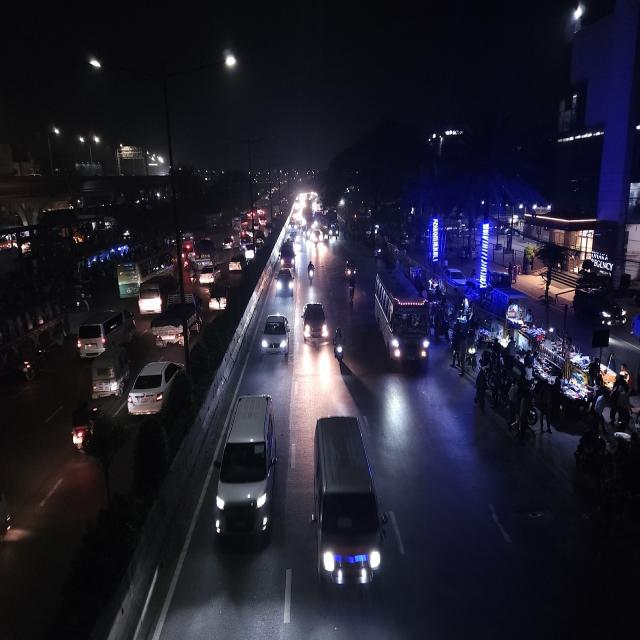bus: (370, 267, 432, 374), (111, 250, 161, 294)
car: (309, 410, 386, 607), (214, 388, 280, 557), (126, 355, 187, 424), (74, 306, 137, 355), (152, 301, 204, 348), (90, 343, 132, 400), (136, 273, 180, 314), (260, 311, 290, 362), (301, 298, 329, 349), (207, 280, 233, 314), (274, 265, 296, 298), (442, 264, 467, 291), (278, 242, 298, 268), (193, 263, 215, 286), (228, 252, 248, 274), (245, 242, 257, 261), (221, 235, 235, 251)
cng: (343, 257, 358, 282)
motorcycle: (16, 338, 42, 382), (332, 326, 346, 371), (306, 259, 316, 287)
truck: (191, 238, 219, 266)
